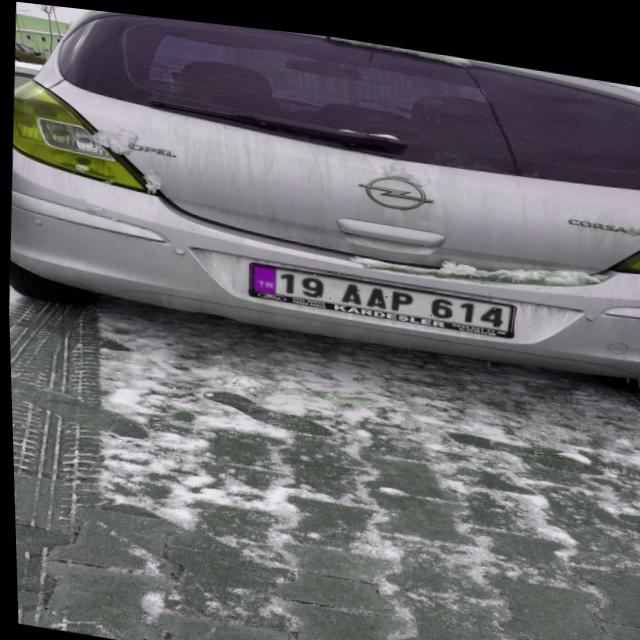license_plate: (250, 258, 510, 322)
